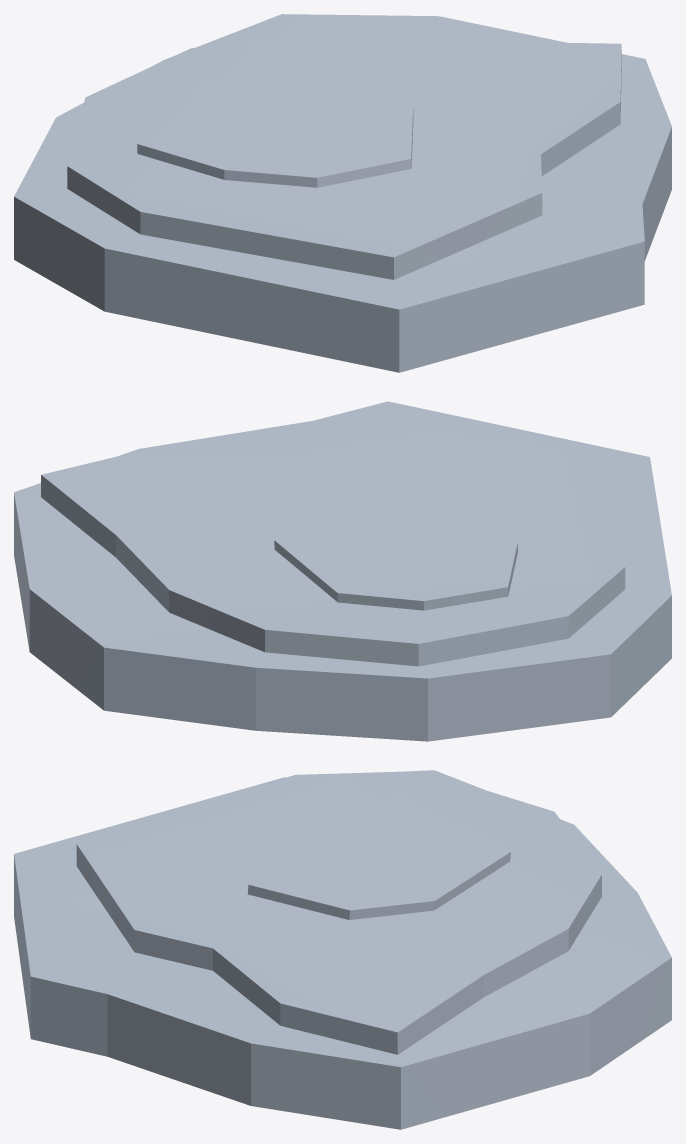
File: TreePackage.fbx_Rocks_7.fbx
3 renders of one model, top to bottom at view 1: azimuth 30°, elevation 25°; view 2: azimuth 150°, elevation 25°; view 3: azimuth 270°, elevation 25°, orthographic.
Parts seen in each view (by area): view 1: Rock.000; view 2: Rock.000; view 3: Rock.000.
Boxes of the visible parts, x1,y1,x2,y2 form: Rock.000: (14, 14, 671, 372); Rock.000: (14, 401, 671, 741); Rock.000: (14, 770, 671, 1129).
Size of the model in its own units: 149 by 22.16 by 140.
